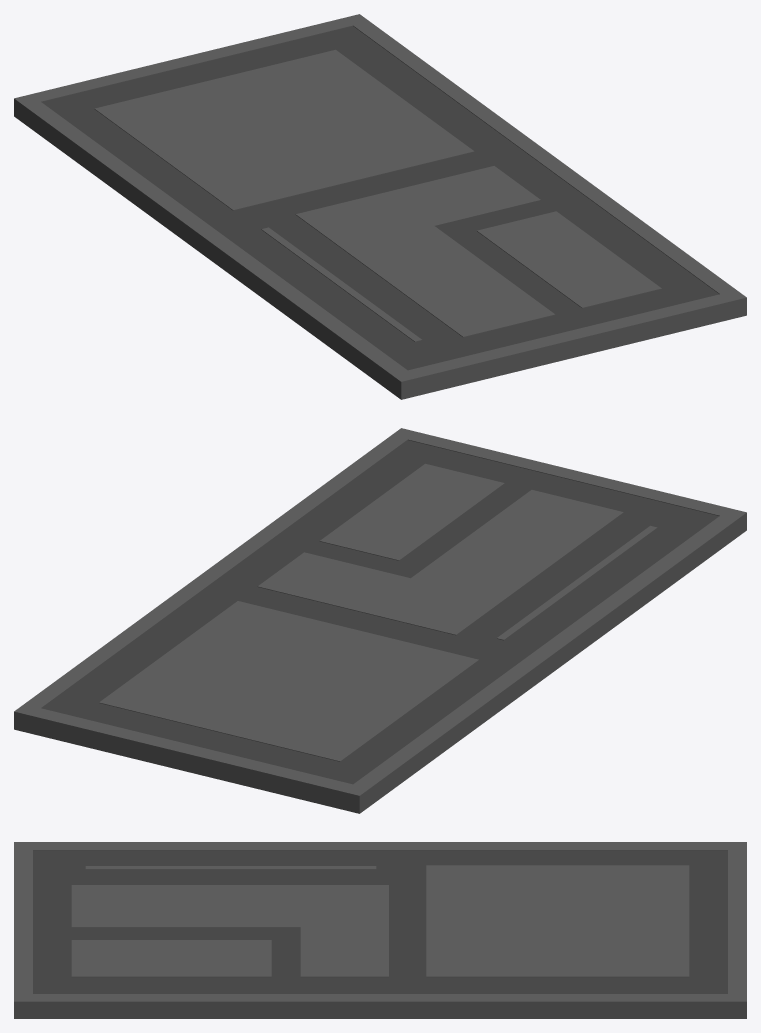
Rendered from Ground.fbx.
The picture shows the model from 3 angles, top to bottom: view 1: azimuth 30°, elevation 25°; view 2: azimuth 150°, elevation 25°; view 3: azimuth 270°, elevation 25°; orthographic projection. The views are drawn at different scales.
Parts seen in each view (by area): view 1: Ground; view 2: Ground; view 3: Ground.
Part boxes in pixels (x1,y1,x2,y2): Ground: (14,14,746,399); Ground: (14,428,746,813); Ground: (14,842,746,1018).
Size of the model in its own units: 14434 by 720 by 28008.
Materials: 1 (1 with a texture image).
